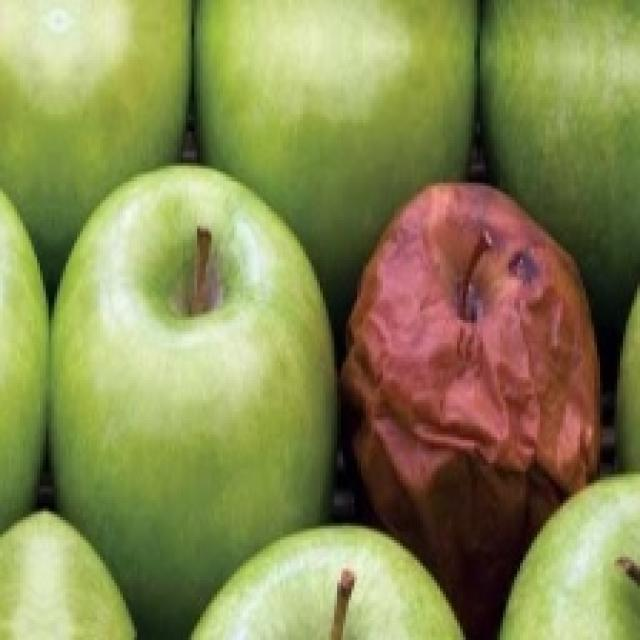rotten_apple: (355, 188, 598, 492)
